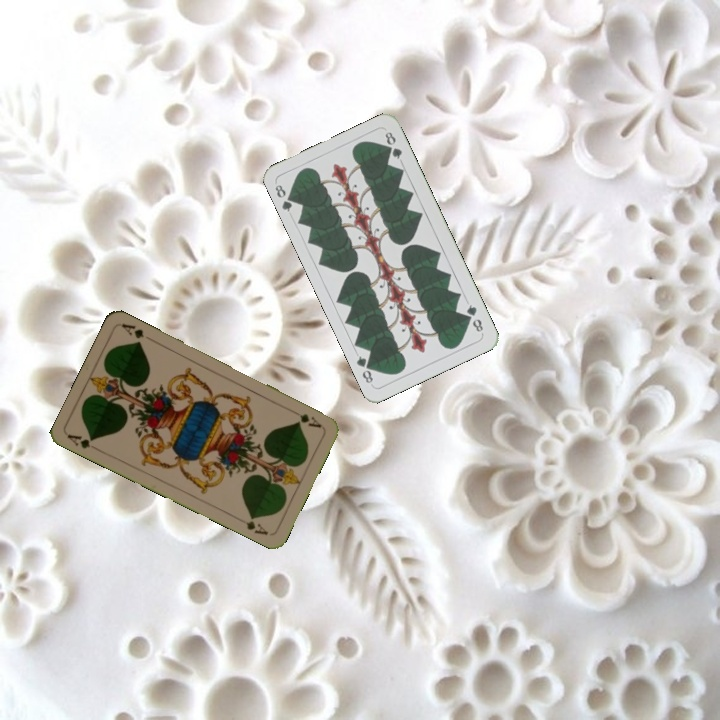G8: (271, 180, 298, 214), (462, 300, 486, 335)
GA: (64, 430, 103, 454), (295, 409, 324, 430)
